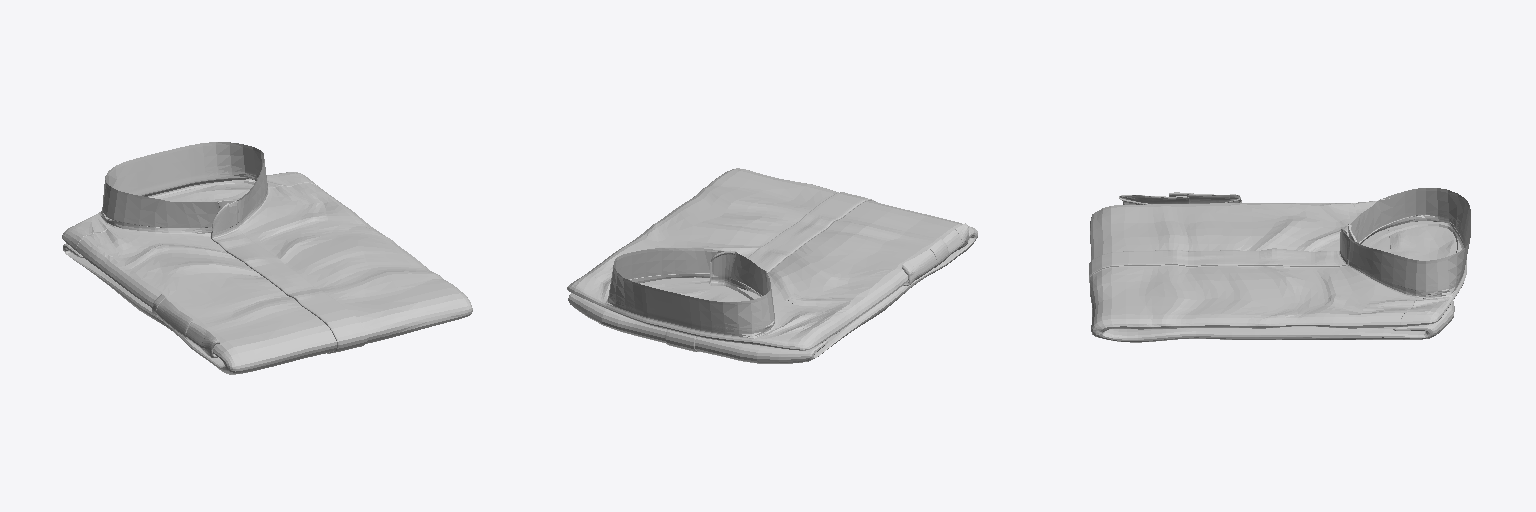
The model's file is Shirt_base.obj.
3 views of the same model, side by side, from view 1: azimuth 30°, elevation 25°; view 2: azimuth 150°, elevation 25°; view 3: azimuth 270°, elevation 25° (orthographic).
Parts seen in each view (by area): view 1: Object006.001; view 2: Object006.001; view 3: Object006.001.
Boxes of the visible parts, x1,y1,x2,y2 form: Object006.001: [62, 142, 472, 374]; Object006.001: [567, 168, 977, 363]; Object006.001: [1089, 188, 1470, 342].
Bounding box in the file's own units: 31.57 × 8.03 × 41.39.